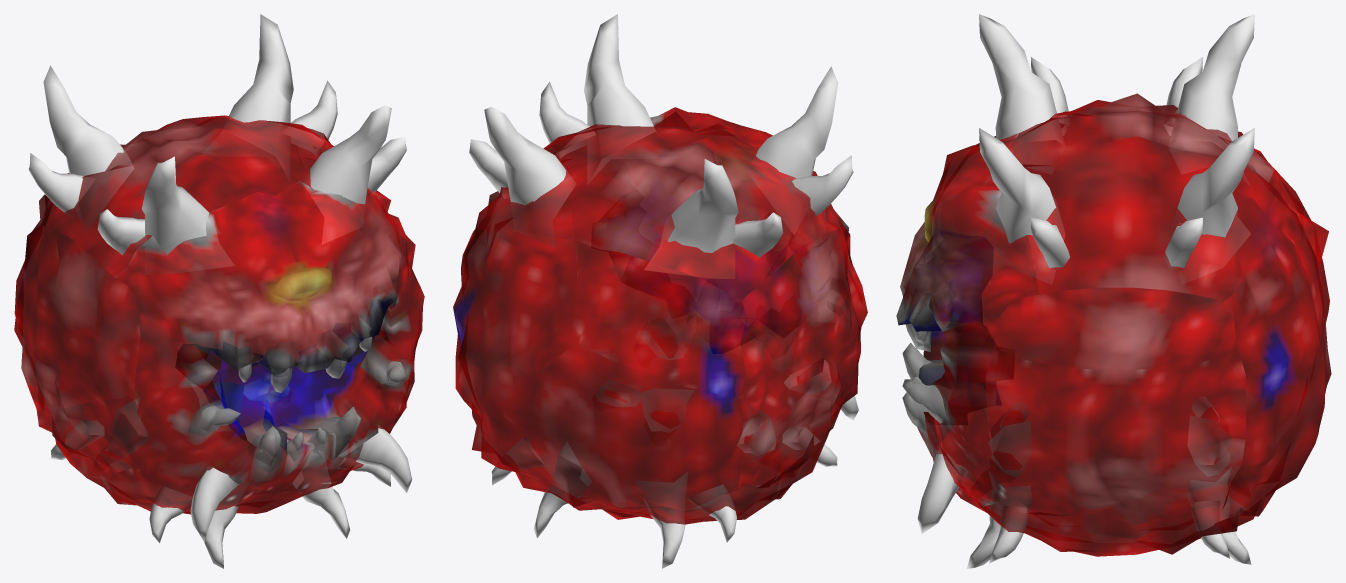
The model's file is caco.fbx.
3 views of the same model, side by side, from view 1: azimuth 30°, elevation 25°; view 2: azimuth 150°, elevation 25°; view 3: azimuth 270°, elevation 25° (orthographic). The views are drawn at different scales.
Parts seen in each view (by area): view 1: Cube.001; view 2: Cube.001; view 3: Cube.001.
Part boxes in pixels (left/top/right/bottom): Cube.001: left=14, top=14, right=424, bottom=568; Cube.001: left=453, top=14, right=867, bottom=568; Cube.001: left=896, top=14, right=1331, bottom=568.
Size of the model in its own units: 479 by 571 by 484.
